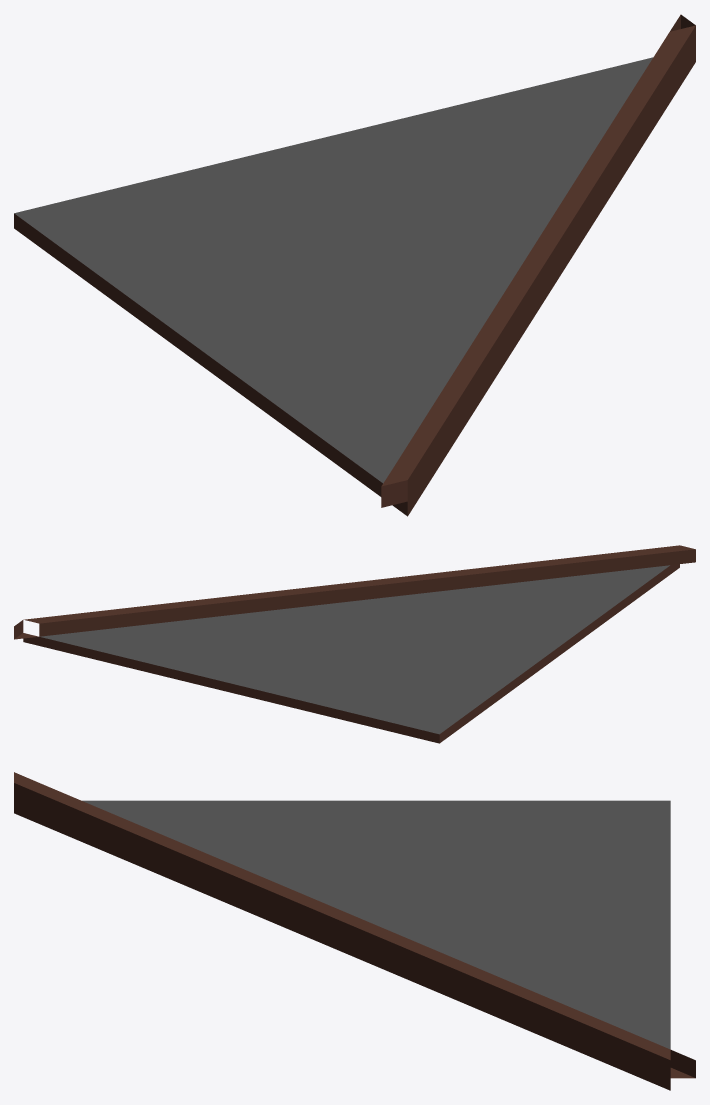
File: roof-d.glb
3 renders of one model, top to bottom at view 1: azimuth 30°, elevation 25°; view 2: azimuth 150°, elevation 25°; view 3: azimuth 270°, elevation 25°, orthographic. The views are drawn at different scales.
Visible parts, largest first — view 1: Roof D (×2); view 2: Roof D (×2); view 3: Roof D (×2).
Part boxes in pixels (left/top/right/bottom): Roof D (×2): left=14, top=14, right=695, bottom=516; Roof D (×2): left=14, top=545, right=695, bottom=743; Roof D (×2): left=14, top=772, right=695, bottom=1090.
Size of the model in its own units: 3.43 by 0.1692 by 3.43.
